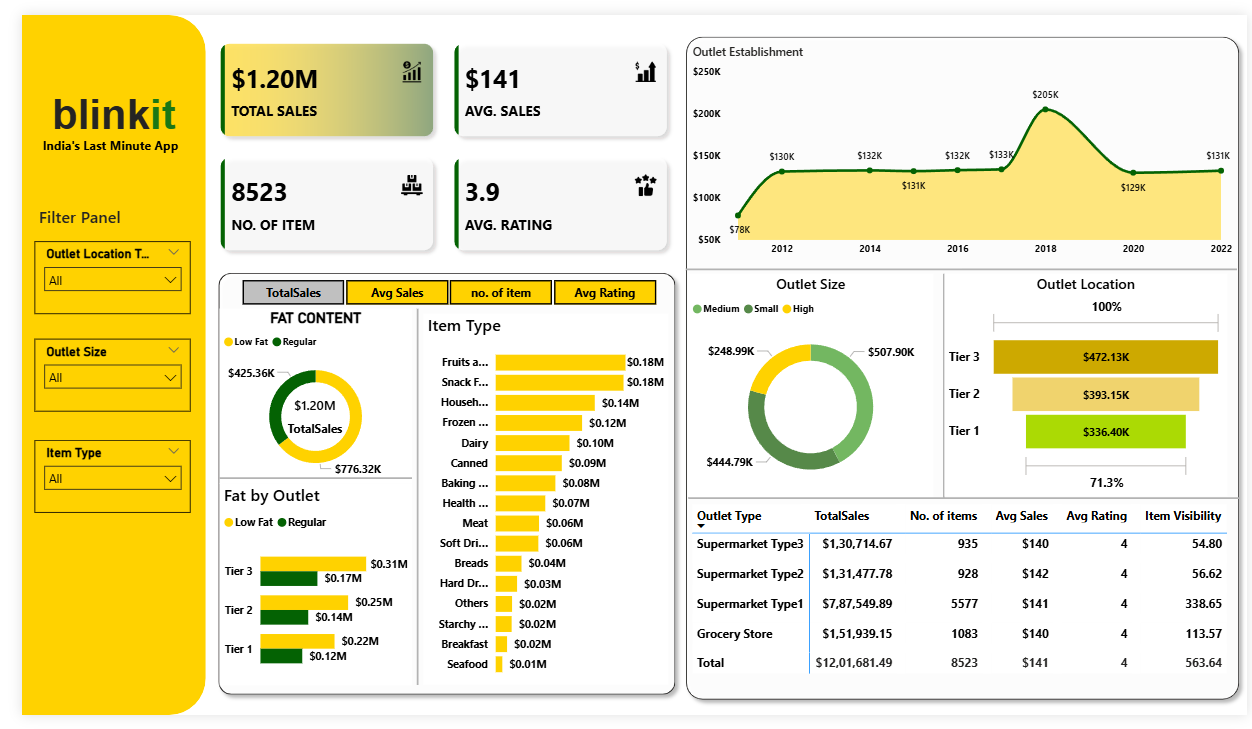

The page's visual inventory and layout, read from the dashboard file:
{"tool":"powerbi","page":{"name":"Page 1","canvas":[1400,800],"ordinal":0},"visuals":[{"type":"shape","box":[0,0,210,800],"z":0},{"type":"textbox","box":[0,81.4,210,77.1],"z":1000},{"type":"textbox","box":[18.6,134.3,172.9,34.3],"z":2000},{"type":"cardVisual","fields":{"Data":["Blinkit Grocery Data.TotalSales","Blinkit Grocery Data.Avg Sales","Blinkit Grocery Data.no. of item","Blinkit Grocery Data.Avg Rating"]},"box":[210,15.7,545.7,270],"z":3000},{"type":"shape","box":[215.7,285.7,540,500],"z":4000},{"type":"donutChart","title":"FAT CONTENT","fields":{"Y":["Blinkit Grocery Data.Avg Rating"],"Category":["Blinkit Grocery Data.Item Fat Content"]},"box":[225.7,335.7,220,200],"z":5000},{"type":"slicer","fields":{"Values":["Matrices.Matrices"]},"box":[225.7,295.7,522.9,40],"z":6000},{"type":"cardVisual","fields":{"Data":["Blinkit Grocery Data.Avg Rating"]},"box":[275.7,418.6,118.6,67.1],"z":7000},{"type":"clusteredBarChart","title":"Fat by Outlet","fields":{"Y":["Blinkit Grocery Data.Avg Rating"],"Category":["Blinkit Grocery Data.Outlet Location Type"],"Series":["Blinkit Grocery Data.Item Fat Content"]},"box":[225.7,535.7,220,230],"z":8000},{"type":"shape","box":[225.7,522.9,220,12.9],"z":9000},{"type":"shape","box":[445.7,335.7,12.9,430],"z":10000},{"type":"barChart","title":"Item Type","fields":{"Y":["Blinkit Grocery Data.Avg Rating"],"Category":["Blinkit Grocery Data.Item Type"]},"box":[458.6,341.4,280,424.3],"z":11000},{"type":"shape","box":[750,15.7,650,775.7],"z":12000},{"type":"lineChart","title":"Outlet Establishment ","fields":{"Category":["Blinkit Grocery Data.Outlet Establishment Year"],"Y":["Blinkit Grocery Data.TotalSales"]},"box":[761.4,32.9,627.1,251.4],"z":13000},{"type":"shape","box":[758.6,284.3,630,12.9],"z":14000},{"type":"donutChart","title":"Outlet Size","fields":{"Y":["Blinkit Grocery Data.TotalSales"],"Category":["Blinkit Grocery Data.Outlet Size"]},"box":[761.4,295.7,280,255.7],"z":15000},{"type":"shape","box":[1047.1,295.7,12.9,257.1],"z":16000},{"type":"funnel","title":" Outlet Location ","fields":{"Y":["Blinkit Grocery Data.TotalSales"],"Category":["Blinkit Grocery Data.Outlet Location Type"]},"box":[1054.3,295.7,322.9,254.3],"z":17000},{"type":"shape","box":[761.4,545.7,630,12.9],"z":18000},{"type":"pivotTable","fields":{"Rows":["Blinkit Grocery Data.Outlet Type"],"Values":["Blinkit Grocery Data.TotalSales","Blinkit Grocery Data.No. of items","Blinkit Grocery Data.Avg Sales","Blinkit Grocery Data.Avg Rating","Sum(Blinkit Grocery Data.Item Visibility)"]},"box":[761.4,554.3,627.1,211.4],"z":19000},{"type":"slicer","fields":{"Values":["Blinkit Grocery Data.Outlet Size"]},"box":[14.3,370,178.6,82.9],"z":20000},{"type":"slicer","fields":{"Values":["Blinkit Grocery Data.Item Type"]},"box":[14.3,485.7,178.6,82.9],"z":21000},{"type":"slicer","fields":{"Values":["Blinkit Grocery Data.Outlet Location Type"]},"box":[14.3,258.6,178.6,82.9],"z":22000},{"type":"textbox","box":[14.3,212.9,125.7,35.7],"z":22001}]}

Visuals, with their boxes in screenshot pixels (x1, y1, x2, y2), scaled from the page's 1400x800 canvas onto the 1252x729 screenshot:
shape: Rect(0, 0, 188, 728)
textbox: Rect(0, 74, 188, 144)
textbox: Rect(17, 122, 171, 154)
cardVisual - Blinkit Grocery Data.TotalSales x Blinkit Grocery Data.Avg Sales: Rect(188, 14, 676, 260)
shape: Rect(193, 260, 676, 716)
"FAT CONTENT" donutChart: Rect(202, 306, 399, 488)
slicer - Matrices.Matrices: Rect(202, 269, 669, 306)
cardVisual - Blinkit Grocery Data.Avg Rating: Rect(247, 381, 353, 443)
"Fat by Outlet" clusteredBarChart: Rect(202, 488, 399, 698)
shape: Rect(202, 476, 399, 488)
shape: Rect(399, 306, 410, 698)
"Item Type" barChart: Rect(410, 311, 661, 698)
shape: Rect(671, 14, 1251, 721)
"Outlet Establishment " lineChart: Rect(681, 30, 1242, 259)
shape: Rect(678, 259, 1242, 271)
"Outlet Size" donutChart: Rect(681, 269, 931, 502)
shape: Rect(936, 269, 948, 504)
" Outlet Location " funnel: Rect(943, 269, 1232, 501)
shape: Rect(681, 497, 1244, 509)
pivotTable - Blinkit Grocery Data.Outlet Type x Blinkit Grocery Data.TotalSales: Rect(681, 505, 1242, 698)
slicer - Blinkit Grocery Data.Outlet Size: Rect(13, 337, 173, 413)
slicer - Blinkit Grocery Data.Item Type: Rect(13, 443, 173, 518)
slicer - Blinkit Grocery Data.Outlet Location Type: Rect(13, 236, 173, 311)
textbox: Rect(13, 194, 125, 227)
